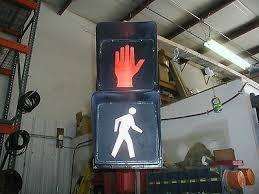pedestrian_stop: (95, 39, 157, 88)
pedestrian_walk: (95, 100, 160, 164)
